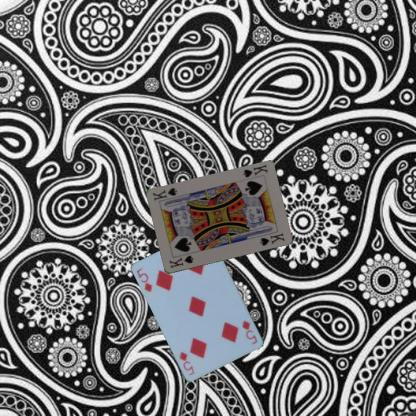5d: (134, 266, 154, 293), (240, 318, 259, 346)
Ks: (166, 253, 195, 270), (240, 162, 269, 179)
